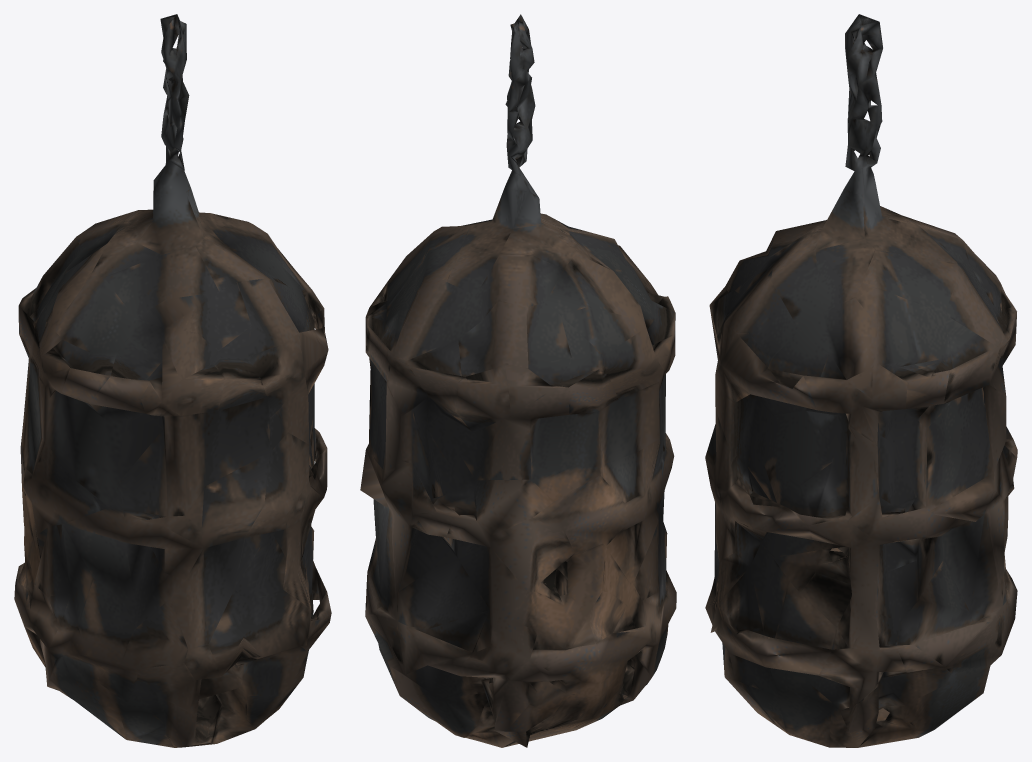
File: hanging_cage_skeleton.glb
3 renders of one model, left to right at view 1: azimuth 30°, elevation 25°; view 2: azimuth 150°, elevation 25°; view 3: azimuth 270°, elevation 25°, orthographic.
Bounding box in the file's own units: 0.8044 × 1.98 × 0.8002.
Materials: 1 (1 with a texture image).
